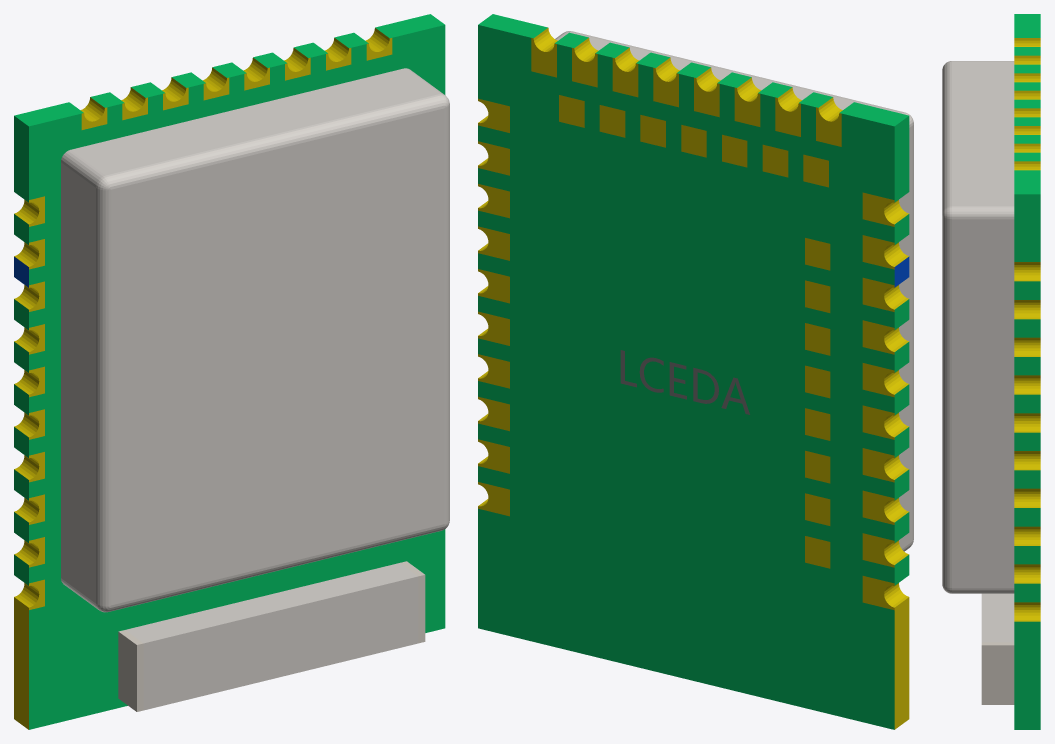
File: FrozenR6-U1.glb
3 renders of one model, left to right at view 1: azimuth 30°, elevation 25°; view 2: azimuth 150°, elevation 25°; view 3: azimuth 270°, elevation 25°, orthographic. The views are drawn at different scales.
Visible parts, largest first — view 1: U1_5c585a, U1_9e9db8, U1_92a43e, U1_0c9cea; view 2: U1_9e9db8, U1_92a43e, U1_5c585a, U1_181c9e; view 3: U1_5c585a, U1_9e9db8, U1_92a43e, U1_0c9cea.
Boxes of the visible parts, box(x1,y1,x2,y2) form: U1_5c585a: box(61, 68, 449, 710); U1_9e9db8: box(14, 14, 445, 729); U1_92a43e: box(14, 28, 392, 729); U1_0c9cea: box(118, 561, 425, 711); U1_9e9db8: box(478, 14, 909, 729); U1_92a43e: box(478, 28, 909, 729); U1_5c585a: box(555, 31, 913, 551); U1_181c9e: box(620, 350, 749, 414); U1_5c585a: box(942, 61, 1014, 642); U1_9e9db8: box(1014, 14, 1040, 729); U1_92a43e: box(1014, 38, 1040, 621); U1_0c9cea: box(981, 642, 1014, 704).
Bounding box in the file's own units: 13 × 18 × 3.
